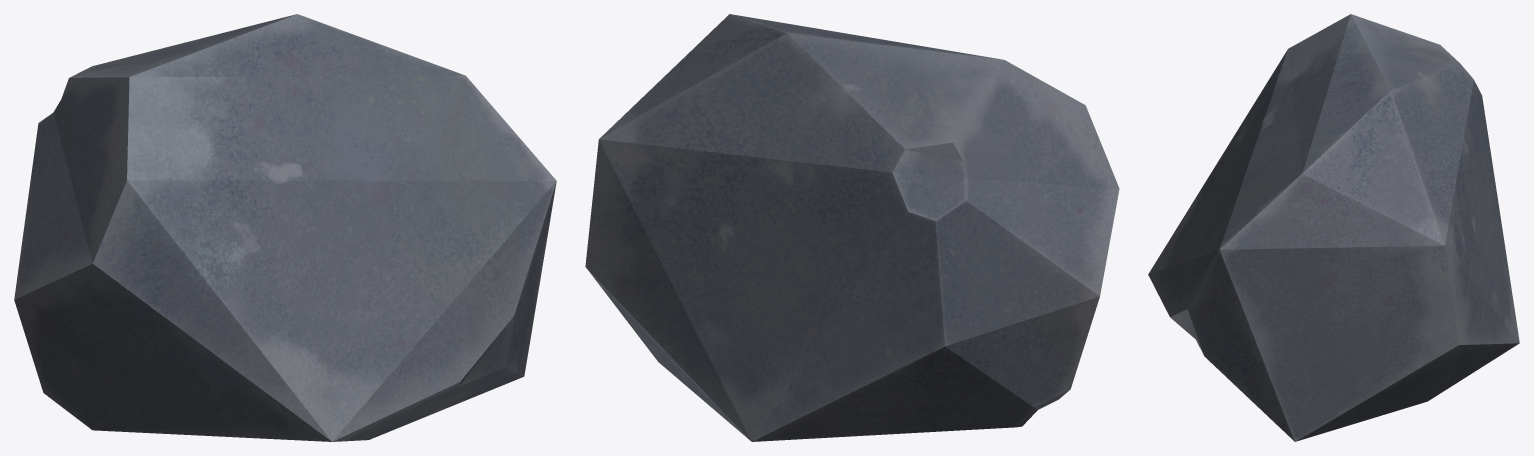
The model's file is stylized_rock_14.fbx.
3 renders of one model, left to right at view 1: azimuth 30°, elevation 25°; view 2: azimuth 150°, elevation 25°; view 3: azimuth 270°, elevation 25°, orthographic. The views are drawn at different scales.
Visible parts, largest first — view 1: stylized_rock_14; view 2: stylized_rock_14; view 3: stylized_rock_14.
Part boxes in pixels (x1=…): stylized_rock_14: x1=14, y1=14, x2=556, y2=441; stylized_rock_14: x1=585, y1=14, x2=1119, y2=441; stylized_rock_14: x1=1148, y1=14, x2=1519, y2=441.
Size of the model in its own units: 78.76 by 65.4 by 68.4.
